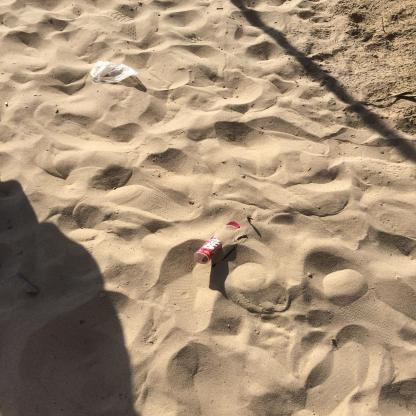karton: (194, 221, 240, 264)
plastik: (91, 60, 139, 84)
